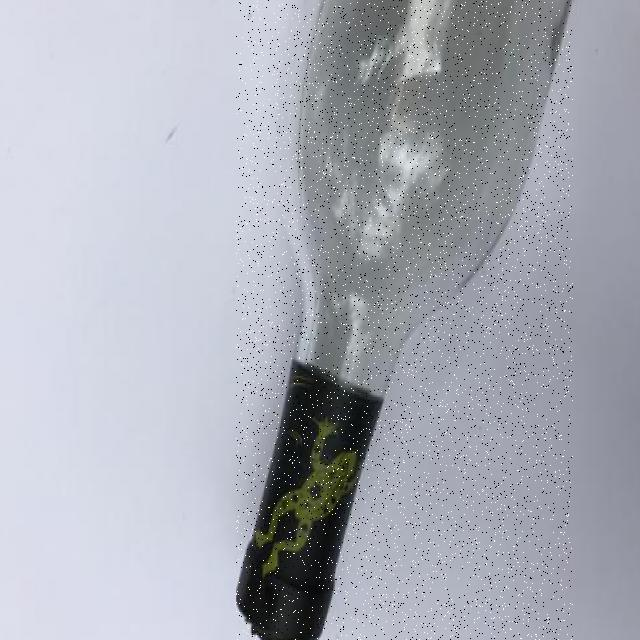glass: (237, 0, 573, 640)
